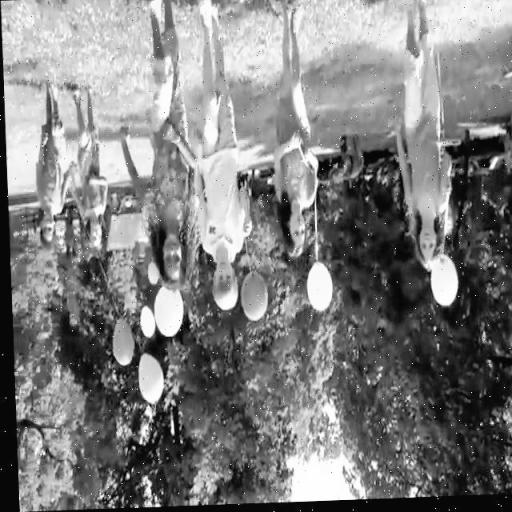balloon: (152, 286, 181, 336), (302, 260, 328, 314), (237, 271, 264, 321), (135, 354, 161, 404), (428, 258, 453, 308), (110, 316, 128, 366), (136, 306, 150, 338), (142, 261, 156, 286)
